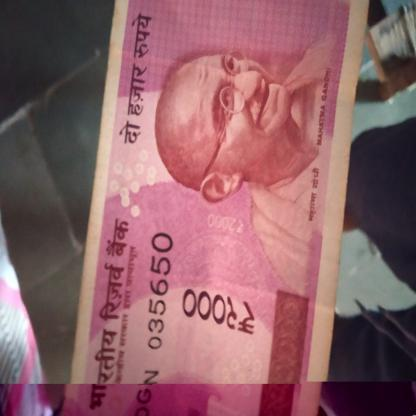New2000Front: (74, 2, 337, 415)
